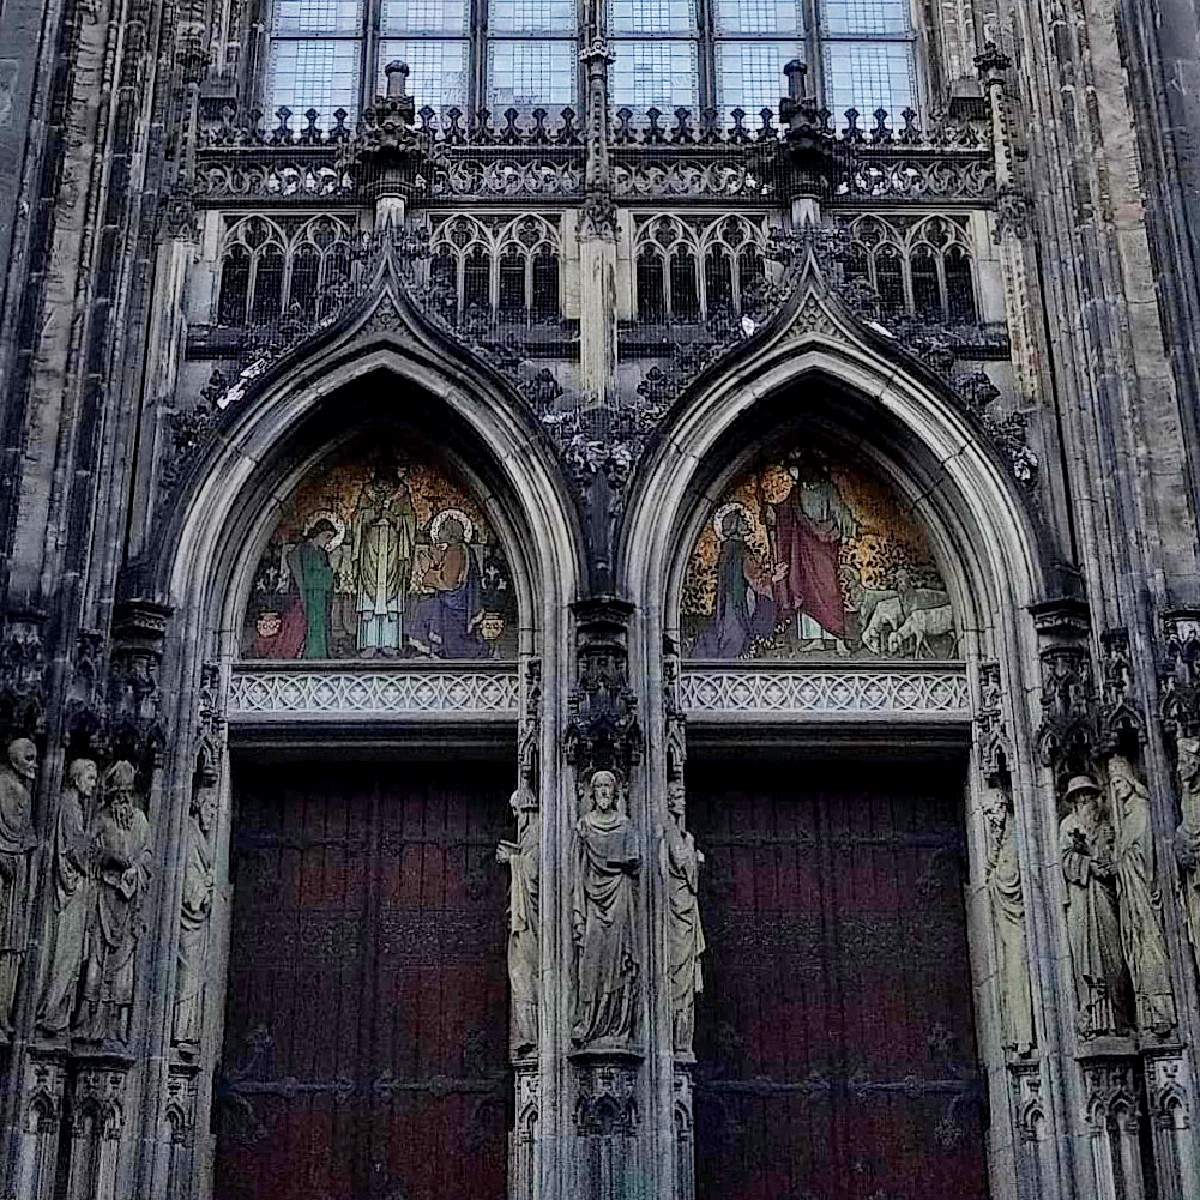arco-apuntado: (193, 332, 563, 632), (635, 349, 1029, 631)
arco-conopial: (240, 247, 541, 404), (685, 237, 946, 392)
